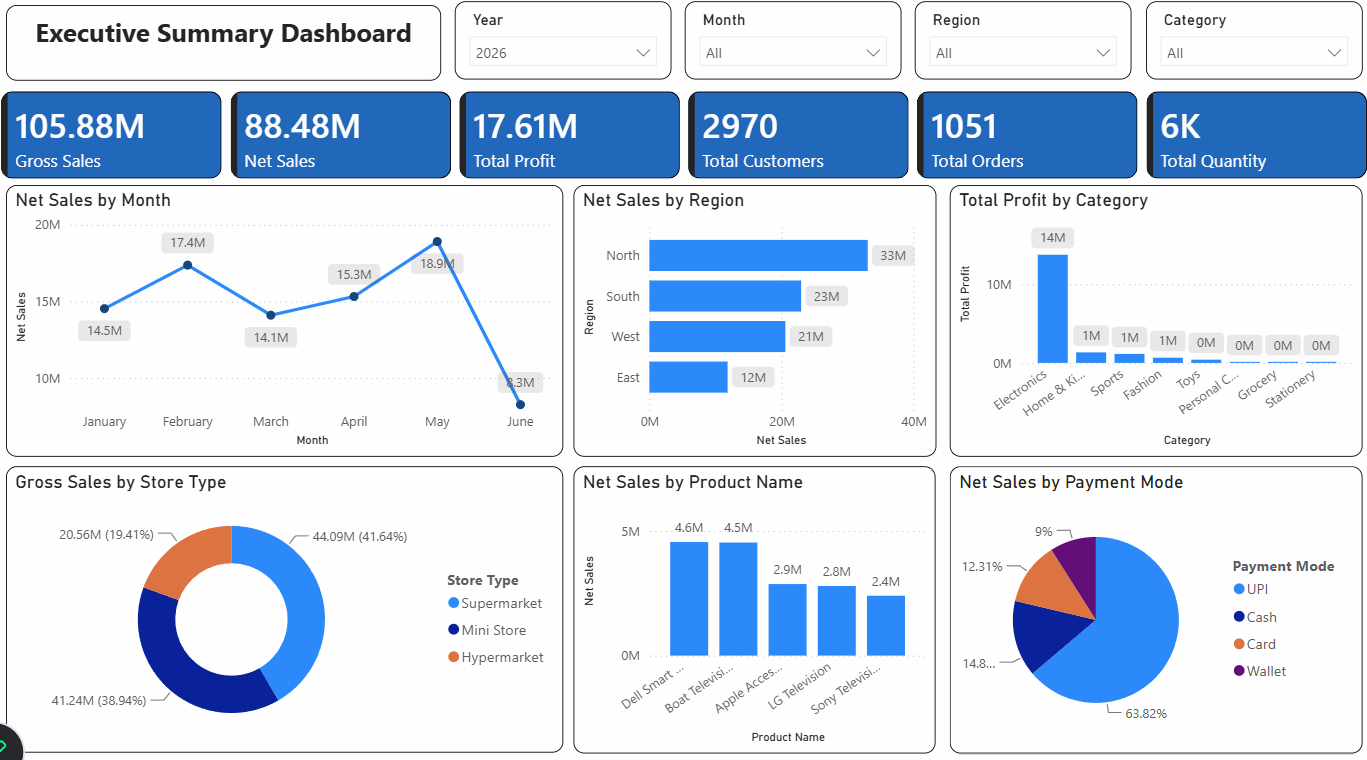

What the dashboard file says about the page in this screenshot:
{"tool":"powerbi","page":{"name":"Page 1","canvas":[1280,720],"ordinal":0},"visuals":[{"type":"cardVisual","fields":{"Data":["All Measures.Gross Sales","All Measures.Net Sales","All Measures.Total Profit","All Measures.Total Customers","All Measures.Total Orders","All Measures.Total Quantity"]},"box":[0,85,1280,91.2],"z":0},{"type":"textbox","box":[8.8,8.8,405,70],"z":1000},{"type":"slicer","fields":{"Values":["Date Table.Date.Variation.Date Hierarchy.Year"]},"box":[426.2,6.2,201.8,72.5],"z":2000},{"type":"slicer","fields":{"Values":["Date Table.Date.Variation.Date Hierarchy.Month"]},"box":[640.7,6.2,201.8,72.5],"z":3000},{"type":"slicer","fields":{"Values":["Customers.Region"]},"box":[855.1,6.2,201.8,72.5],"z":4000},{"type":"slicer","fields":{"Values":["Products.Category"]},"box":[1069.5,6.2,201.8,72.5],"z":5000},{"type":"lineChart","fields":{"Category":["Date Table.Date.Variation.Date Hierarchy.Month"],"Y":["All Measures.Net Sales"]},"box":[8.8,176.2,518.8,252.5],"z":6000},{"type":"clusteredBarChart","fields":{"Y":["All Measures.Net Sales"],"Category":["Customers.Region"]},"box":[537.5,176.2,337.5,252.5],"z":7000},{"type":"clusteredColumnChart","fields":{"Category":["Products.Category"],"Y":["All Measures.Total Profit"]},"box":[887.5,176.2,383.8,252.5],"z":8000},{"type":"donutChart","fields":{"Category":["Stores.Store Type"],"Y":["All Measures.Gross Sales"]},"box":[8.8,438.8,518.8,266.2],"z":9000},{"type":"clusteredColumnChart","fields":{"Category":["Products.Product Name"],"Y":["All Measures.Net Sales"]},"box":[537.1,438.6,337.1,267.1],"z":10000},{"type":"pieChart","fields":{"Y":["All Measures.Net Sales"],"Category":["Sales.Payment Mode"]},"box":[887.1,438.6,384.3,267.1],"z":11000}]}

Visuals, with their boxes in screenshot pixels (x1, y1, x2, y2), scaled from the page's 1280x720 canvas onto the 1367x760 screenshot:
cardVisual - All Measures.Gross Sales x All Measures.Net Sales: [0, 90, 1366, 186]
textbox: [9, 9, 442, 83]
slicer - Date Table.Date.Variation.Date Hierarchy.Year: [455, 7, 671, 83]
slicer - Date Table.Date.Variation.Date Hierarchy.Month: [684, 7, 900, 83]
slicer - Customers.Region: [913, 7, 1129, 83]
slicer - Products.Category: [1142, 7, 1358, 83]
lineChart - Date Table.Date.Variation.Date Hierarchy.Month x All Measures.Net Sales: [9, 186, 563, 453]
clusteredBarChart - All Measures.Net Sales x Customers.Region: [574, 186, 934, 453]
clusteredColumnChart - Products.Category x All Measures.Total Profit: [948, 186, 1358, 453]
donutChart - Stores.Store Type x All Measures.Gross Sales: [9, 463, 563, 744]
clusteredColumnChart - Products.Product Name x All Measures.Net Sales: [574, 463, 934, 745]
pieChart - All Measures.Net Sales x Sales.Payment Mode: [947, 463, 1358, 745]
